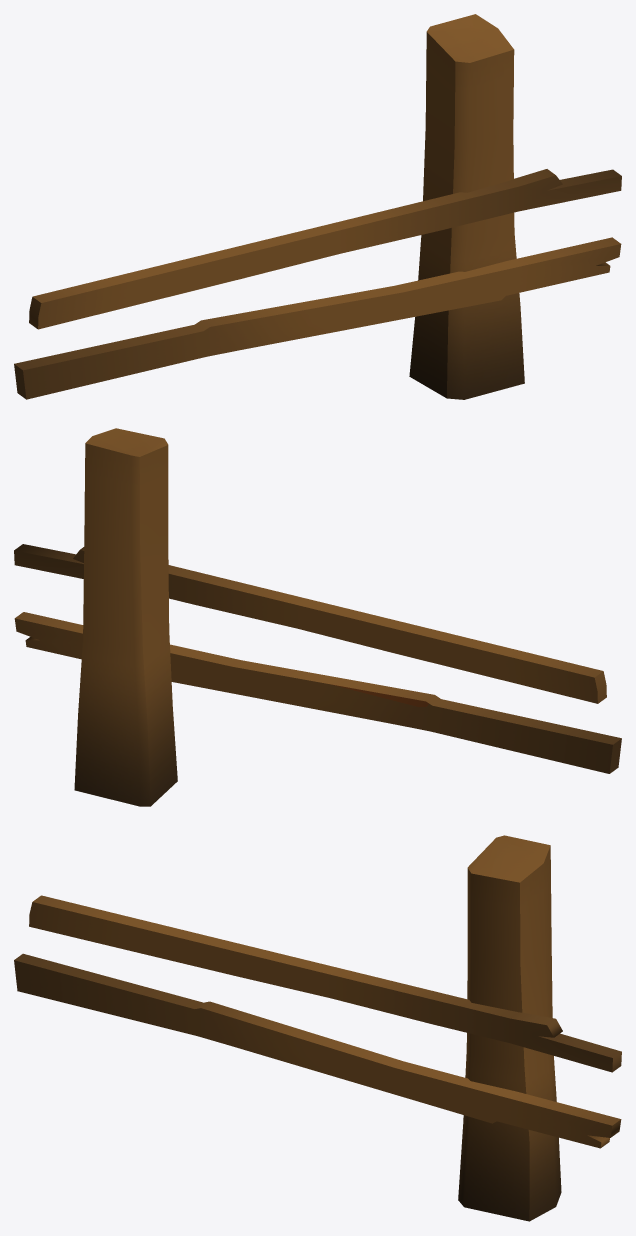
File: RoadFenceWood_Sml-04.FBX
3 renders of one model, top to bottom at view 1: azimuth 30°, elevation 25°; view 2: azimuth 150°, elevation 25°; view 3: azimuth 330°, elevation 25°, orthographic.
Parts seen in each view (by area): view 1: RoadFenceWood_Sml-04; view 2: RoadFenceWood_Sml-04; view 3: RoadFenceWood_Sml-04.
Part boxes in pixels (bbox=[...]): RoadFenceWood_Sml-04: bbox=[14, 14, 621, 399]; RoadFenceWood_Sml-04: bbox=[14, 428, 621, 806]; RoadFenceWood_Sml-04: bbox=[14, 835, 621, 1221].
Bounding box in the file's own units: 253 × 140 × 33.04.
1 material, 1 textured.
